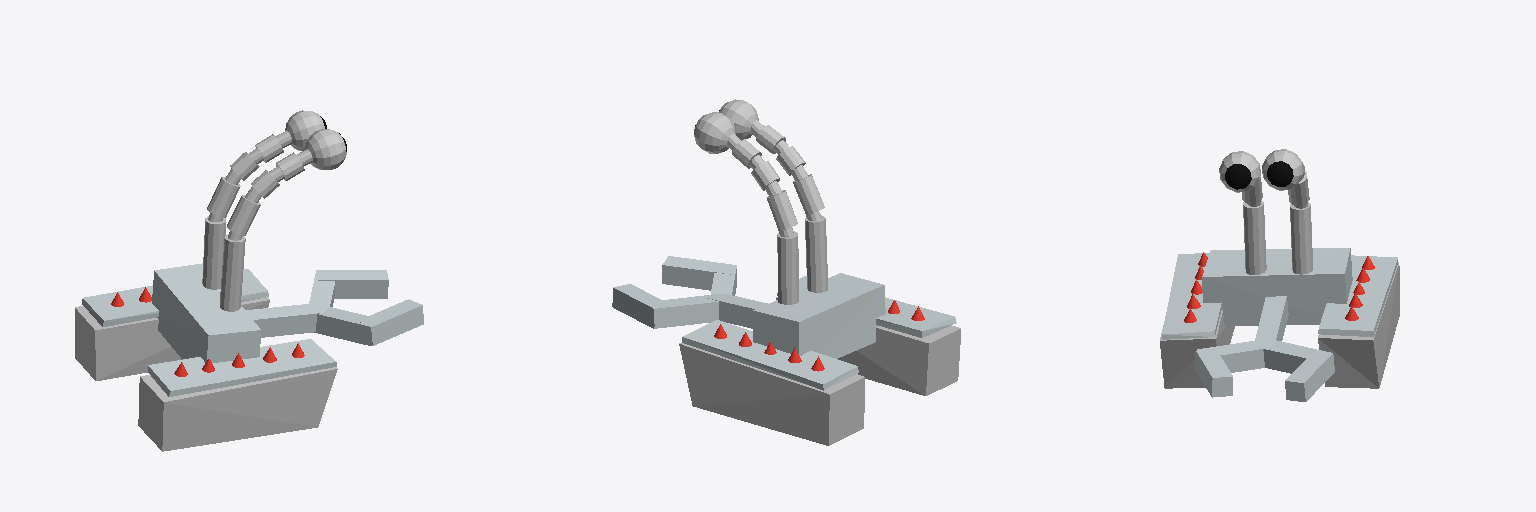
File: EnemyBot.obj
The picture shows the model from 3 angles: view 1: azimuth 30°, elevation 25°; view 2: azimuth 150°, elevation 25°; view 3: azimuth 270°, elevation 25°; orthographic projection.
Visible parts, largest first — view 1: group[number redacted], group[number redacted], group[number redacted], group[number redacted], group[number redacted], group[number redacted], group[number redacted], group[number redacted], group[number redacted], group[number redacted], group[number redacted], group[number redacted] (+2 smaller); view 2: group[number redacted], group[number redacted], group[number redacted], group[number redacted], group[number redacted], group[number redacted], group[number redacted], group[number redacted], group[number redacted], group[number redacted], group[number redacted], group[number redacted] (+2 smaller); view 3: group[number redacted], group[number redacted], group[number redacted], group[number redacted], group[number redacted], group[number redacted], group[number redacted], group[number redacted], group[number redacted], group[number redacted], group[number redacted], group[number redacted].
Boxes of the visible parts, x1,y1,x2,y2 form: group[number redacted]: [138, 367, 337, 451]; group[number redacted]: [152, 263, 260, 362]; group[number redacted]: [75, 297, 269, 380]; group[number redacted]: [148, 339, 336, 396]; group[number redacted]: [314, 299, 423, 345]; group[number redacted]: [82, 269, 268, 326]; group[number redacted]: [309, 270, 388, 306]; group[number redacted]: [245, 302, 329, 337]; group[number redacted]: [220, 234, 245, 311]; group[number redacted]: [202, 216, 225, 289]; group[number redacted]: [305, 129, 346, 169]; group[number redacted]: [285, 110, 326, 150]; group[number redacted]: [679, 343, 864, 445]; group[number redacted]: [753, 273, 885, 358]; group[number redacted]: [776, 297, 960, 395]; group[number redacted]: [682, 320, 858, 390]; group[number redacted]: [612, 284, 718, 328]; group[number redacted]: [662, 256, 736, 295]; group[number redacted]: [777, 276, 956, 337]; group[number redacted]: [805, 215, 827, 292]; group[number redacted]: [777, 231, 798, 304]; group[number redacted]: [694, 112, 735, 153]; group[number redacted]: [707, 294, 767, 328]; group[number redacted]: [719, 99, 758, 140]; group[number redacted]: [1202, 248, 1352, 326]; group[number redacted]: [1318, 262, 1399, 388]; group[number redacted]: [1318, 255, 1397, 336]; group[number redacted]: [1162, 253, 1221, 339]; group[number redacted]: [1264, 340, 1334, 401]; group[number redacted]: [1195, 341, 1264, 397]; group[number redacted]: [1160, 310, 1234, 388]; group[number redacted]: [1243, 200, 1266, 274]; group[number redacted]: [1290, 202, 1312, 274]; group[number redacted]: [1262, 149, 1303, 190]; group[number redacted]: [1219, 151, 1260, 192]; group[number redacted]: [1254, 296, 1288, 351].
Bounding box in the file's own units: 0.4643 × 0.405 × 0.3386.